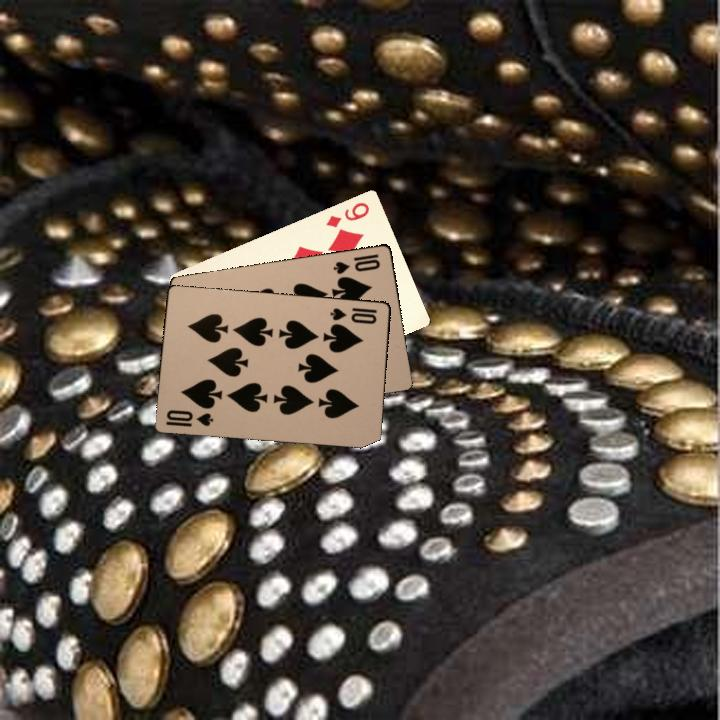10s: (330, 250, 383, 277), (162, 406, 216, 429), (327, 304, 379, 326)
9d: (322, 198, 372, 230)
